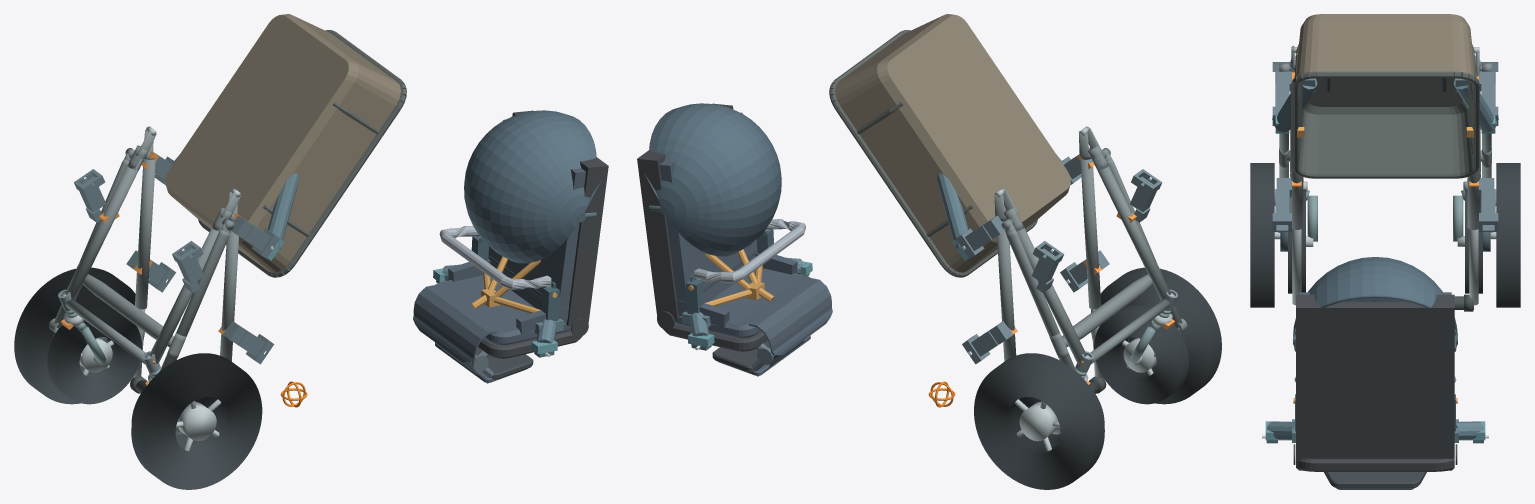
The model's file is D14_w550_state3_wheel_L.glb.
3 views of the same model, side by side, from view 1: azimuth 30°, elevation 25°; view 2: azimuth 150°, elevation 25°; view 3: azimuth 270°, elevation 25° (orthographic). The views are drawn at different scales.
Visible parts, largest first — view 1: D14_Upper, D14_Lower, RL_tire.004, FR_tire.004, RR_tire.004, main_upper_1.005, main_lower_1.005, V46_rearbar.005, main_upper_-1.005, V46_rear_leg_-1.005, main_lower_-1.005, D14_Lower_Mount_M (+8 smaller); view 2: D14_Upper, D14_Lower, RR_tire.004, FL_tire.004, RL_tire.004, main_upper_-1.005, main_lower_-1.005, V46_rearbar.005, main_upper_1.005, V46_rear_leg_1.005, main_lower_1.005, D14_Lower_Mount_M (+9 smaller); view 3: D14_Upper, D14_Lower, RL_tire.004, RR_tire.004, D14_Lower_Mount_M, D14_Upper_Mount_H, Universal_Cabin_Receiver_H_1, Universal_Cabin_Receiver_H_-1, FR_tire.004, FL_tire.004, main_upper_1.005, main_upper_-1.005 (+6 smaller).
Part boxes in pixels (x1,y1,x2,y2): D14_Upper: (413,110,608,383); D14_Lower: (165,14,406,277); RL_tire.004: (131,353,262,489); FR_tire.004: (47,305,141,404); RR_tire.004: (14,267,144,404); main_upper_1.005: (135,159,155,309); main_lower_1.005: (65,159,142,300); V46_rearbar.005: (83,274,173,347); main_upper_-1.005: (220,221,238,361); V46_rear_leg_-1.005: (159,229,230,371); main_lower_-1.005: (149,226,222,363); D14_Lower_Mount_M: (174,155,298,260); D14_Upper: (637,103,832,376); D14_Lower: (829,14,1070,277); RR_tire.004: (974,353,1104,489); FL_tire.004: (1094,305,1188,404); RL_tire.004: (1091,267,1221,404); main_upper_-1.005: (1080,159,1101,309); main_lower_-1.005: (1093,159,1170,300); V46_rearbar.005: (1062,274,1152,347); main_upper_1.005: (997,221,1016,361); V46_rear_leg_1.005: (1006,229,1076,371); main_lower_1.005: (1014,226,1086,363); D14_Lower_Mount_M: (937,154,1061,260); D14_Upper: (1293,257,1457,489); D14_Lower: (1291,14,1479,178); RL_tire.004: (1250,163,1274,307); RR_tire.004: (1496,163,1520,307); D14_Lower_Mount_M: (1272,78,1498,133); D14_Upper_Mount_H: (1262,419,1488,443); Universal_Cabin_Receiver_H_1: (1479,178,1498,231); Universal_Cabin_Receiver_H_-1: (1272,178,1291,231); FR_tire.004: (1465,189,1482,293); FL_tire.004: (1288,189,1305,293); main_upper_1.005: (1467,91,1480,229); main_upper_-1.005: (1290,91,1303,229).
Size of the model in its own units: 1.5 by 1.05 by 0.671.
